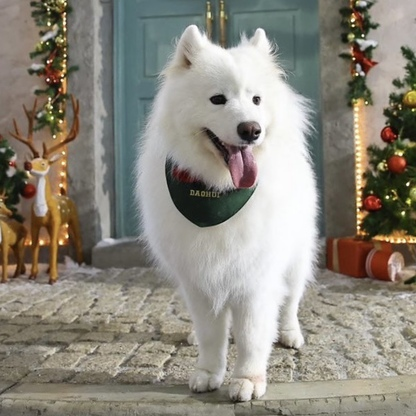samoyed: (130, 19, 326, 405)
